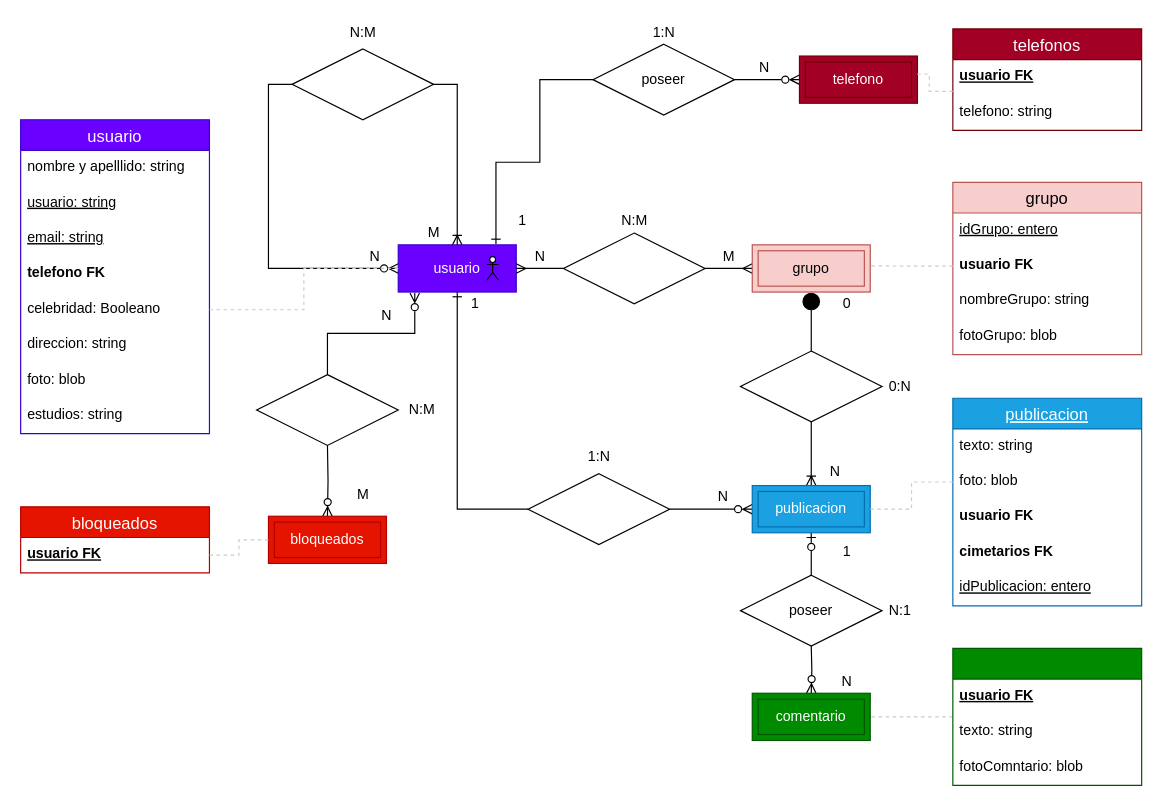
The diagram is 1162 pixels wide and 808 high, and some of its shapes have lost their labels. Each missing label, with the box of its shape:
acceder: (739, 350, 882, 422)
comentarios: (952, 647, 1142, 785)
contacto: (291, 48, 434, 120)
pertenecer: (562, 232, 705, 304)
publicar: (527, 473, 670, 545)
tiene: (255, 373, 398, 445)
